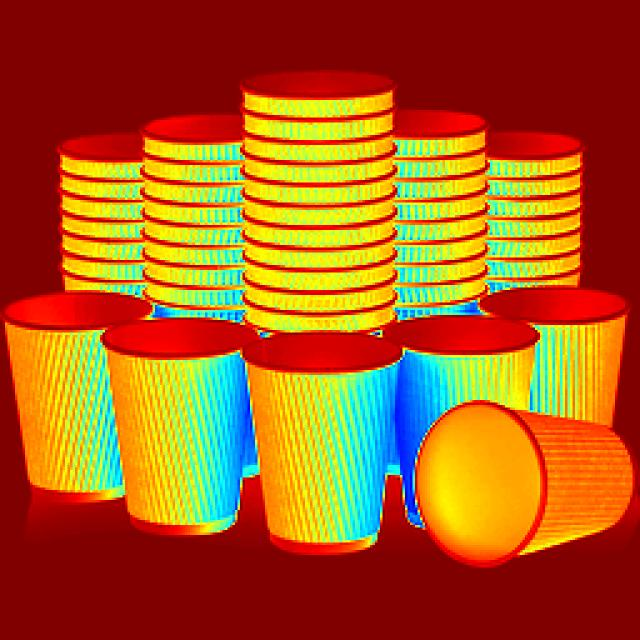Paper Cups: (239, 83, 400, 329), (111, 310, 252, 563), (425, 398, 630, 556), (251, 328, 392, 544), (9, 288, 128, 514), (403, 120, 483, 312), (157, 129, 244, 297), (48, 131, 148, 266), (404, 305, 534, 402), (514, 291, 622, 390), (498, 141, 584, 258)
